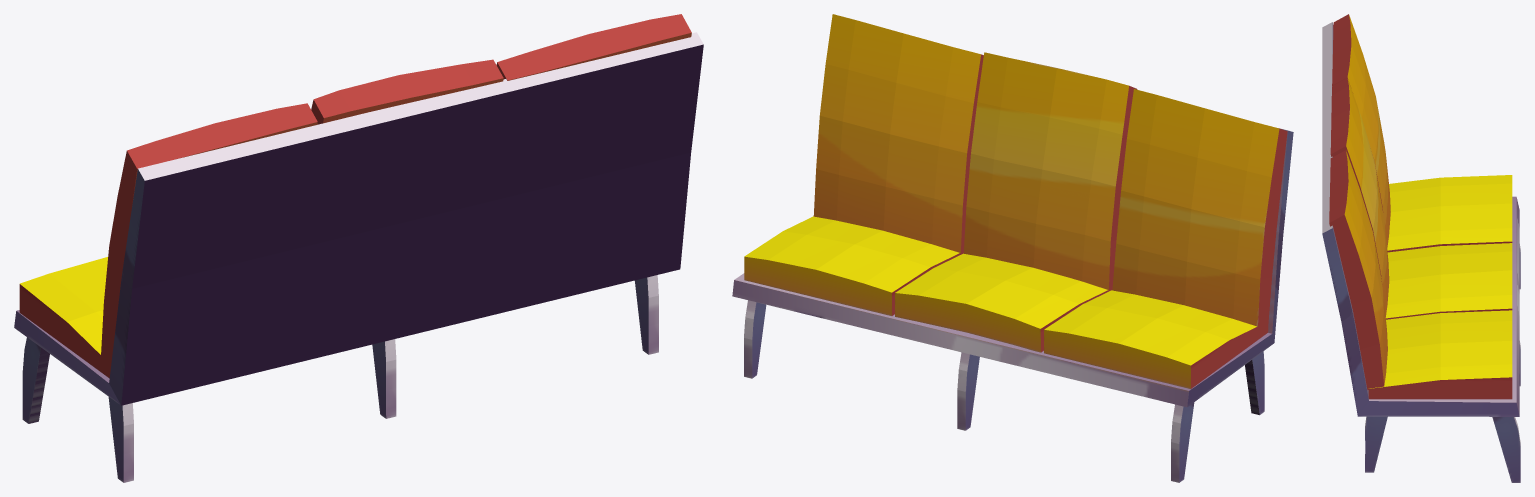
File: mitad sillas.fbx
The picture shows the model from 3 angles, left to right: view 1: azimuth 30°, elevation 25°; view 2: azimuth 150°, elevation 25°; view 3: azimuth 270°, elevation 25°; orthographic projection. The views are drawn at different scales.
Visible parts, largest first — view 1: Cube.003; view 2: Cube.003; view 3: Cube.003.
Part boxes in pixels (x1=…): Cube.003: x1=14, y1=14, x2=703, y2=482; Cube.003: x1=732, y1=14, x2=1293, y2=482; Cube.003: x1=1322, y1=14, x2=1520, y2=482.
Bounding box in the file's own units: 96.77 × 59.56 × 39.04.
